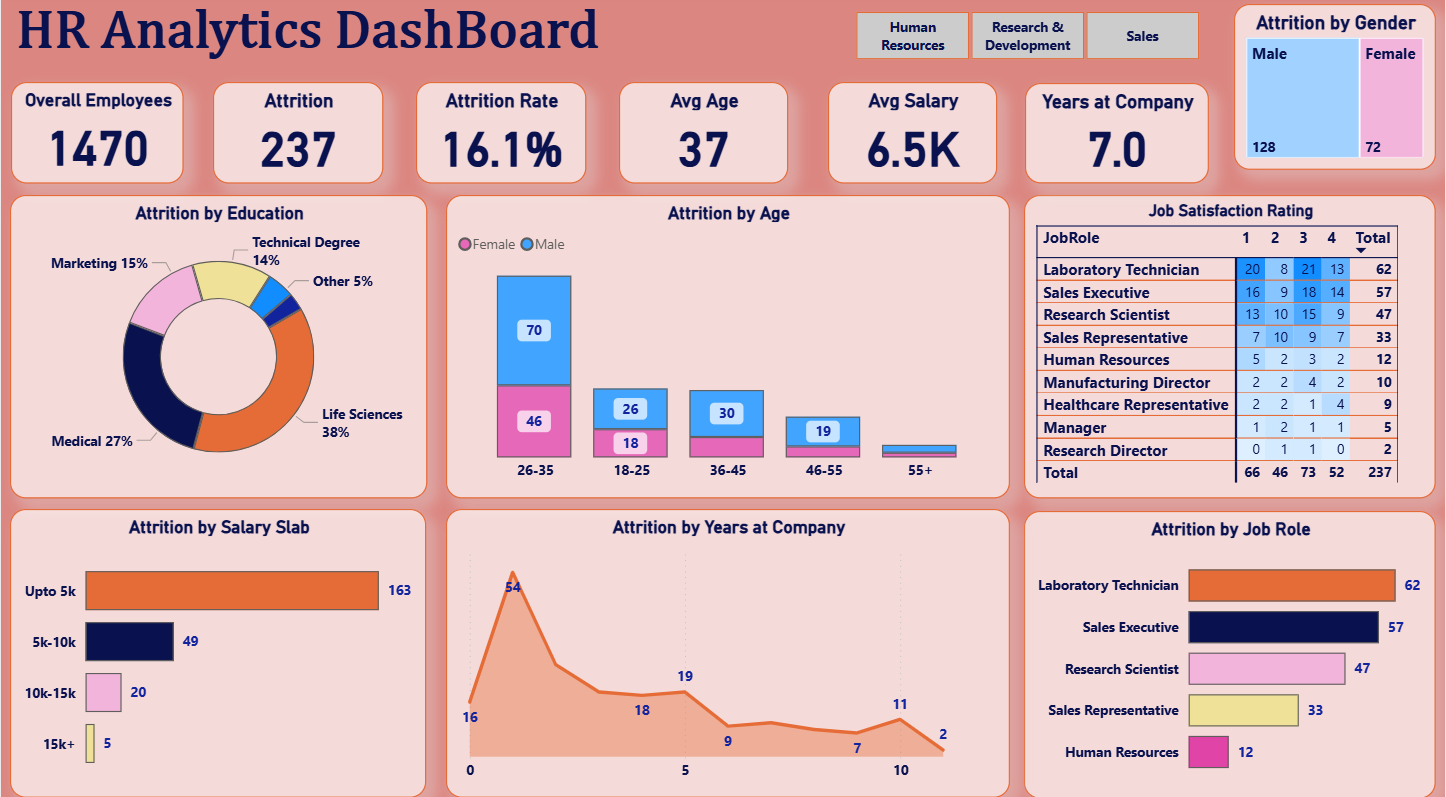

This screenshot's page, from the dashboard's own definition file:
{"tool":"powerbi","page":{"name":"Page 1","canvas":[1280,720],"ordinal":0},"visuals":[{"type":"card","title":"Overall Employees","fields":{"Values":["Sum(HR_Analytics.EmployeeCount)"]},"box":[8.6,77.2,153.4,90.4],"z":0},{"type":"card","title":"Avg Age","fields":{"Values":["Avg(HR_Analytics.Age)"]},"box":[547.7,77.2,149.9,90.4],"z":1000},{"type":"card","title":"Attrition Rate","fields":{"Values":["HR_Analytics.AttritionRate"]},"box":[367.7,77.2,150.7,90.4],"z":2000},{"type":"card","title":"Attrition","fields":{"Values":["Sum(HR_Analytics.AttritionCount)"]},"box":[187.7,77.2,150.7,90.4],"z":3000},{"type":"card","title":"Avg Salary","fields":{"Values":["Avg(HR_Analytics.MonthlyIncome)"]},"box":[733,77.2,149.9,90.4],"z":4000},{"type":"donutChart","title":"Attrition by Education","fields":{"Category":["HR_Analytics.EducationField"],"Y":["Sum(HR_Analytics.AttritionCount)"]},"box":[8,177.3,369.8,268.7],"z":5000},{"type":"lineStackedColumnComboChart","title":"Attrition by Age","fields":{"Category":["HR_Analytics.AgeGroup"],"Y":["Sum(HR_Analytics.AttritionCount)"],"Series":["HR_Analytics.Gender"]},"box":[394.6,177.3,500.1,268.7],"z":6000},{"type":"pivotTable","title":"Job Satisfaction Rating","fields":{"Rows":["HR_Analytics.JobRole"],"Columns":["HR_Analytics.JobSatisfaction"],"Values":["Sum(HR_Analytics.AttritionCount)"]},"box":[906.8,167.8,365.4,278.8],"z":7000},{"type":"clusteredBarChart","title":"Attrition by Salary Slab","fields":{"Category":["HR_Analytics.SalarySlab"],"Y":["Sum(HR_Analytics.AttritionCount)"]},"box":[8.4,455.8,369.5,255.8],"z":8000},{"type":"clusteredBarChart","title":"Attrition by Job Role","fields":{"Y":["Sum(HR_Analytics.AttritionCount)"],"Category":["HR_Analytics.JobRole"]},"box":[907.4,457.9,365.3,254.7],"z":9000},{"type":"areaChart","title":"Attrition by Years at Company","fields":{"Category":["HR_Analytics.YearsAtCompany"],"Y":["Sum(HR_Analytics.AttritionCount)"]},"box":[394.7,455.8,500,255.8],"z":10000},{"type":"treemap","title":"Attrition by Gender","fields":{"Group":["HR_Analytics.Gender"],"Values":["Sum(HR_Analytics.AttritionCount)"]},"box":[1093.7,8.4,178.9,147.4],"z":11000},{"type":"textbox","box":[8,0.9,639.3,69.2],"z":12000},{"type":"slicer","fields":{"Values":["HR_Analytics.Department"]},"box":[732.6,8.4,353.7,54.7],"z":13000},{"type":"card","title":"Years at Company","fields":{"Values":["Avg(HR_Analytics.YearsAtCompany)"]},"box":[908,78,163.2,89.5],"z":14000}]}

Visuals, with their boxes in screenshot pixels (x1, y1, x2, y2), scaled from the page's 1280x720 canvas onto the 1446x797 screenshot:
"Overall Employees" card: detection(10, 85, 183, 186)
"Avg Age" card: detection(619, 85, 788, 186)
"Attrition Rate" card: detection(415, 85, 586, 186)
"Attrition" card: detection(212, 85, 382, 186)
"Avg Salary" card: detection(828, 85, 997, 186)
"Attrition by Education" donutChart: detection(9, 196, 427, 494)
"Attrition by Age" lineStackedColumnComboChart: detection(446, 196, 1011, 494)
"Job Satisfaction Rating" pivotTable: detection(1024, 186, 1437, 494)
"Attrition by Salary Slab" clusteredBarChart: detection(9, 505, 427, 788)
"Attrition by Job Role" clusteredBarChart: detection(1025, 507, 1438, 789)
"Attrition by Years at Company" areaChart: detection(446, 505, 1011, 788)
"Attrition by Gender" treemap: detection(1236, 9, 1438, 172)
textbox: detection(9, 1, 731, 78)
slicer - HR_Analytics.Department: detection(828, 9, 1227, 70)
"Years at Company" card: detection(1026, 86, 1210, 185)
